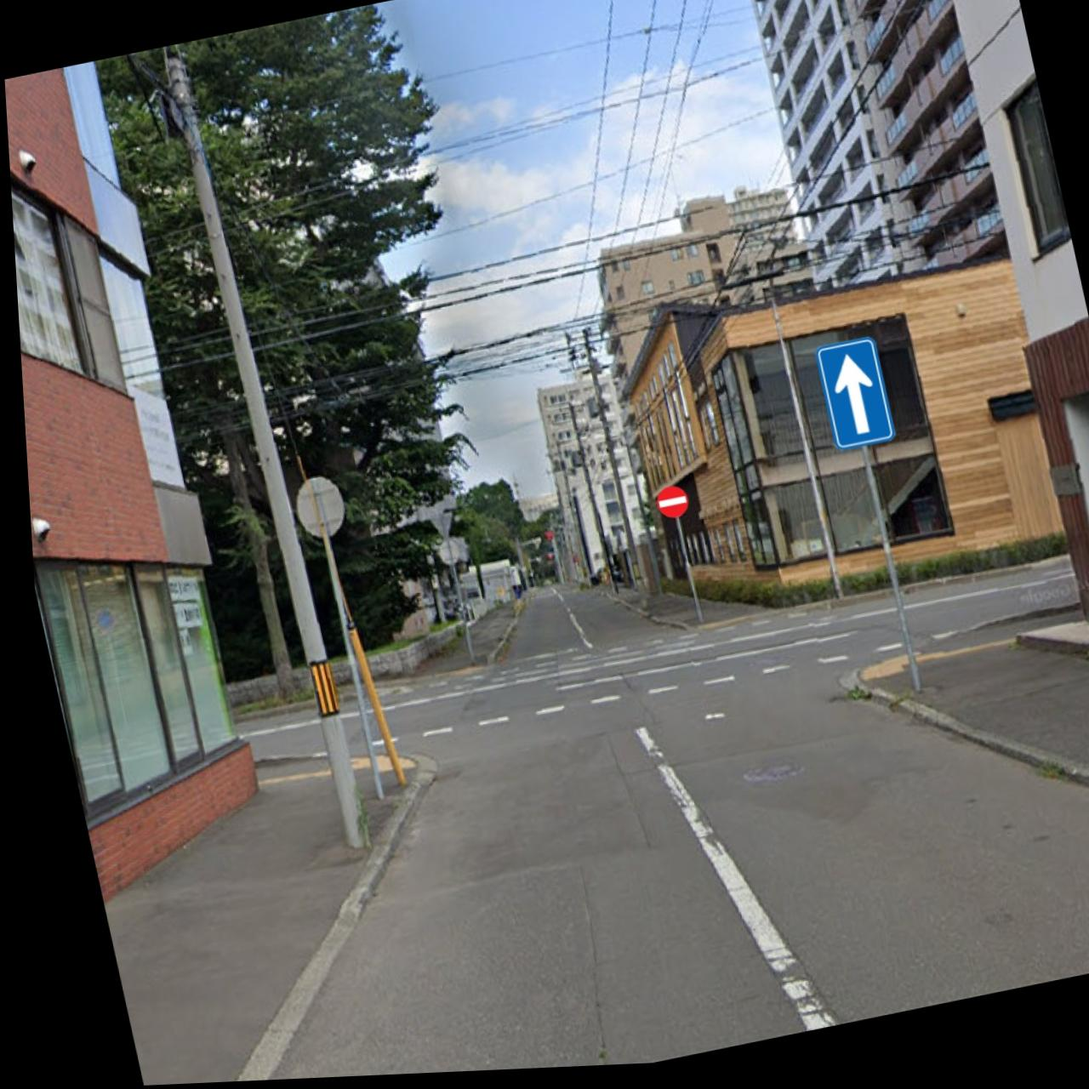barrier: (650, 474, 696, 525)
